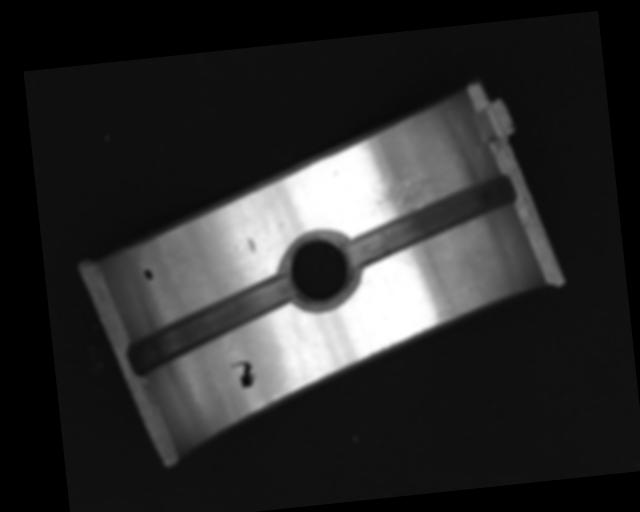blot: (230, 359, 256, 390), (142, 268, 154, 281)
bruise: (247, 237, 256, 254)
gap: (119, 274, 302, 376), (340, 176, 520, 268)
hole: (278, 229, 361, 311)
scratch: (367, 151, 473, 216)
